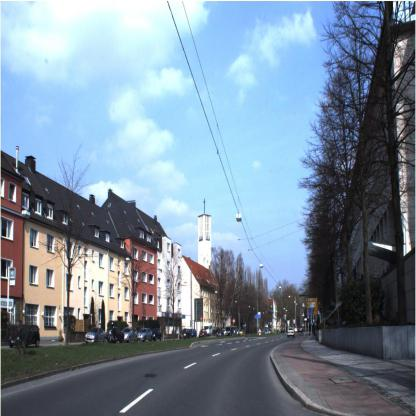other: (231, 314, 236, 326)
